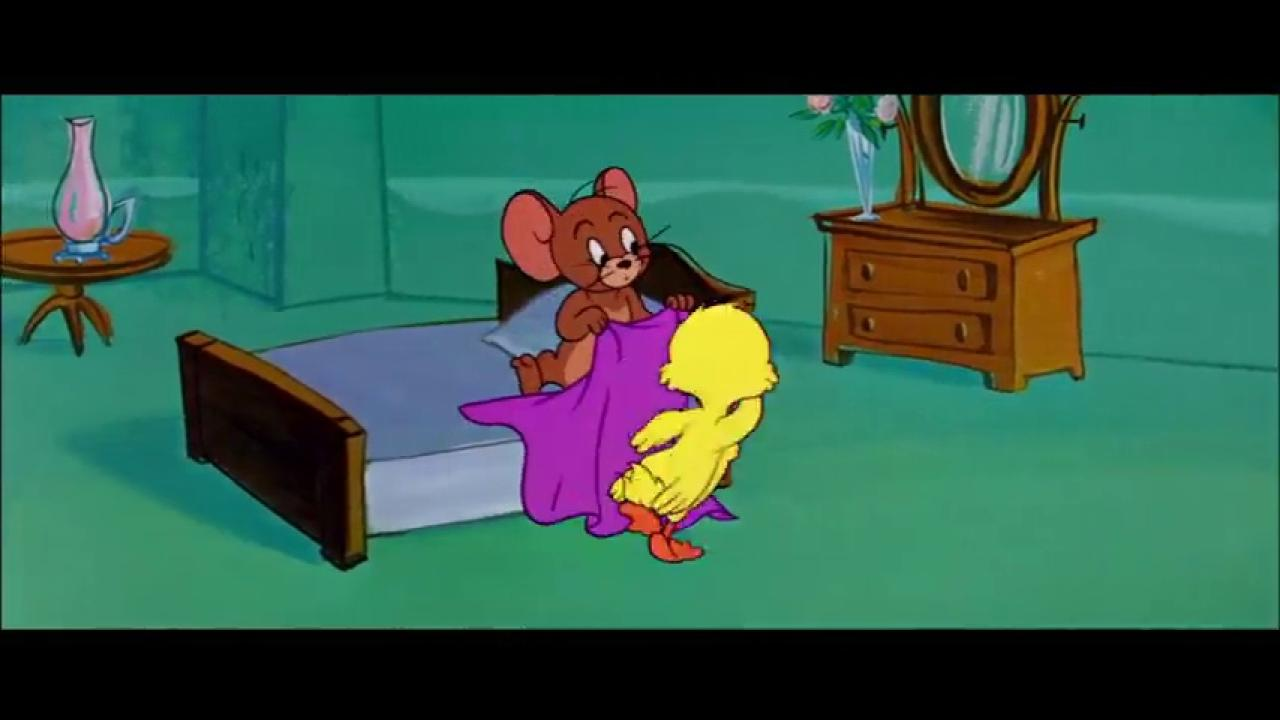Jerry: (501, 163, 699, 399)
